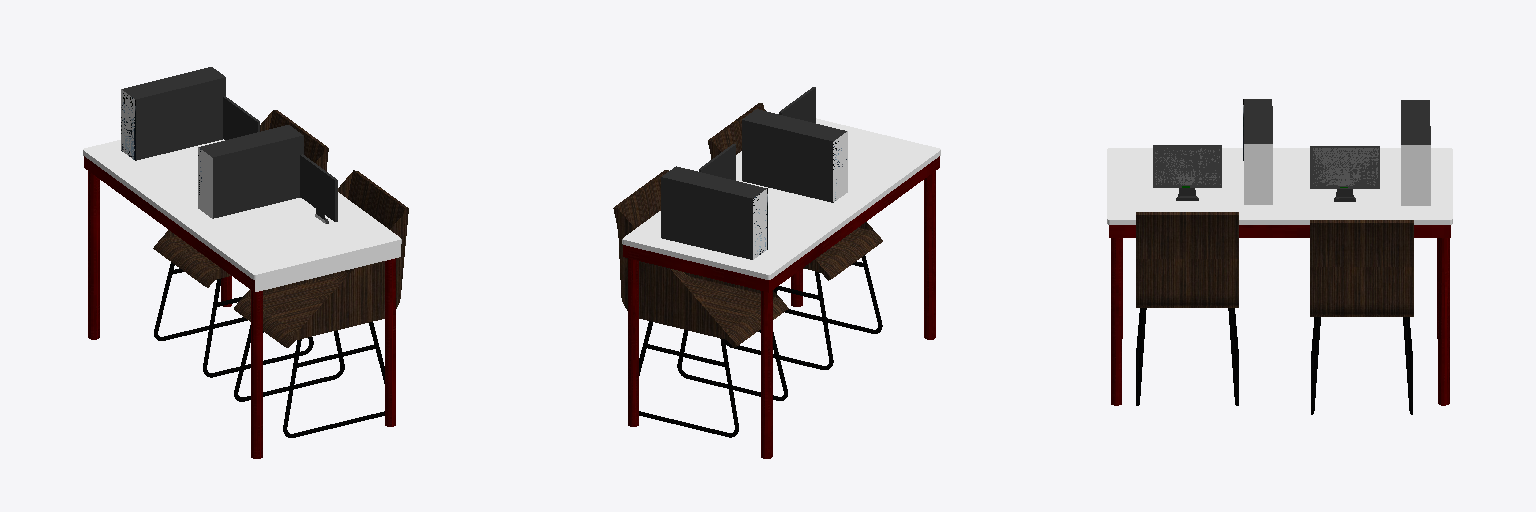
3 views of the same model, side by side, from view 1: azimuth 30°, elevation 25°; view 2: azimuth 150°, elevation 25°; view 3: azimuth 270°, elevation 25° (orthographic).
Parts seen in each view (by area): view 1: Mesh21 Model, Mesh20 Component_7_2 Untitled2 Model, Mesh4 computer2 Model, Mesh1 computer1 Model, Mesh13 Component_7_1 Untitled1 Model, Mesh25 Model, Mesh24 Model, Mesh22 Model, Mesh5 computer2 Model, Mesh15 Component_2_2 Component_6_2 Untitled2 Model, Mesh2 computer1 Model, Mesh14 Component_1_2 Component_6_2 Untitled2 Model (+2 smaller); view 2: Mesh21 Model, Mesh13 Component_7_1 Untitled1 Model, Mesh1 computer1 Model, Mesh4 computer2 Model, Mesh20 Component_7_2 Untitled2 Model, Mesh24 Model, Mesh25 Model, Mesh23 Model, Mesh7 Component_1_1 Component_6_1 Untitled1 Model, Mesh8 Component_2_1 Component_6_1 Untitled1 Model, Mesh14 Component_1_2 Component_6_2 Untitled2 Model, Mesh2 computer1 Model (+2 smaller); view 3: Mesh21 Model, Mesh13 Component_7_1 Untitled1 Model, Mesh20 Component_7_2 Untitled2 Model, Mesh1 computer1 Model, Mesh4 computer2 Model, Mesh5 computer2 Model, Mesh23 Model, Mesh2 computer1 Model, Mesh22 Model, Mesh3 computer1 Model, Mesh14 Component_1_2 Component_6_2 Untitled2 Model, Mesh15 Component_2_2 Component_6_2 Untitled2 Model (+3 smaller).
Boxes of the visible parts, x1=… form: Mesh21 Model: x1=83, y1=139, x2=401, y2=292; Mesh20 Component_7_2 Untitled2 Model: x1=234, y1=170, x2=408, y2=347; Mesh4 computer2 Model: x1=198, y1=125, x2=303, y2=218; Mesh1 computer1 Model: x1=121, y1=67, x2=225, y2=160; Mesh13 Component_7_1 Untitled1 Model: x1=153, y1=110, x2=328, y2=287; Mesh25 Model: x1=251, y1=290, x2=262, y2=458; Mesh24 Model: x1=88, y1=171, x2=99, y2=339; Mesh22 Model: x1=385, y1=258, x2=395, y2=426; Mesh5 computer2 Model: x1=300, y1=154, x2=337, y2=223; Mesh15 Component_2_2 Component_6_2 Untitled2 Model: x1=283, y1=322, x2=384, y2=437; Mesh2 computer1 Model: x1=223, y1=96, x2=259, y2=139; Mesh14 Component_1_2 Component_6_2 Untitled2 Model: x1=234, y1=325, x2=344, y2=401; Mesh21 Model: x1=622, y1=118, x2=940, y2=292; Mesh13 Component_7_1 Untitled1 Model: x1=613, y1=170, x2=788, y2=347; Mesh1 computer1 Model: x1=661, y1=166, x2=767, y2=259; Mesh4 computer2 Model: x1=742, y1=109, x2=847, y2=202; Mesh20 Component_7_2 Untitled2 Model: x1=708, y1=103, x2=882, y2=280; Mesh24 Model: x1=761, y1=290, x2=772, y2=458; Mesh25 Model: x1=924, y1=171, x2=935, y2=339; Mesh23 Model: x1=628, y1=258, x2=638, y2=426; Mesh7 Component_1_1 Component_6_1 Untitled1 Model: x1=639, y1=321, x2=738, y2=437; Mesh8 Component_2_1 Component_6_1 Untitled1 Model: x1=677, y1=330, x2=787, y2=400; Mesh14 Component_1_2 Component_6_2 Untitled2 Model: x1=725, y1=271, x2=833, y2=369; Mesh2 computer1 Model: x1=699, y1=144, x2=735, y2=180; Mesh21 Model: x1=1107, y1=148, x2=1452, y2=237; Mesh13 Component_7_1 Untitled1 Model: x1=1310, y1=220, x2=1413, y2=316; Mesh20 Component_7_2 Untitled2 Model: x1=1136, y1=212, x2=1238, y2=307; Mesh1 computer1 Model: x1=1401, y1=100, x2=1430, y2=205; Mesh4 computer2 Model: x1=1243, y1=99, x2=1272, y2=204; Mesh5 computer2 Model: x1=1153, y1=145, x2=1221, y2=200; Mesh23 Model: x1=1438, y1=238, x2=1449, y2=405; Mesh2 computer1 Model: x1=1310, y1=146, x2=1379, y2=201; Mesh22 Model: x1=1111, y1=238, x2=1121, y2=405; Mesh3 computer1 Model: x1=1313, y1=148, x2=1378, y2=185; Mesh14 Component_1_2 Component_6_2 Untitled2 Model: x1=1228, y1=308, x2=1238, y2=405; Mesh15 Component_2_2 Component_6_2 Untitled2 Model: x1=1136, y1=308, x2=1146, y2=405.
Bounding box in the file's own units: 71 × 97.59 × 121.
Materials: 10 (4 with a texture image).